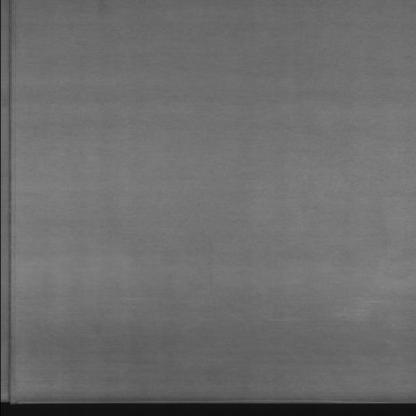welding_line: (3, 2, 16, 413)
